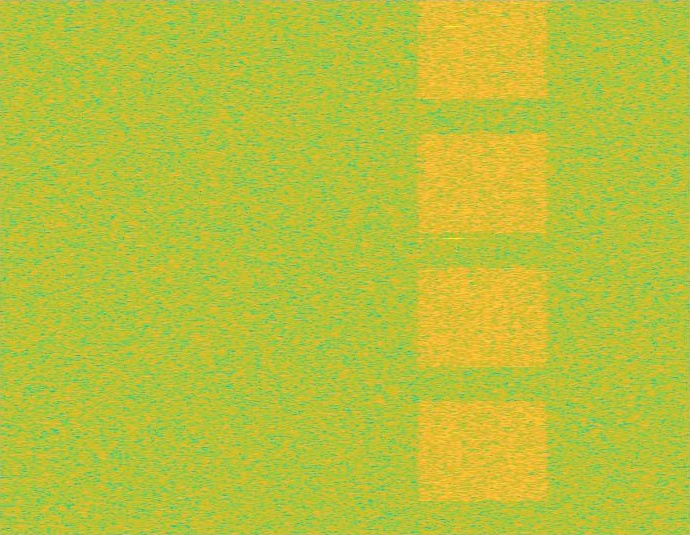5G: (414, 0, 552, 534)
Radar: (447, 0, 461, 534)
